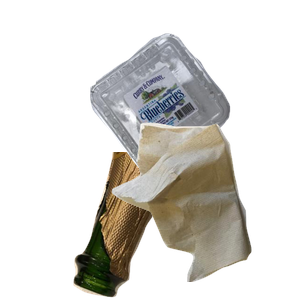glass: (71, 152, 260, 300)
metal: (105, 63, 300, 192)
plastic: (88, 31, 300, 198)
trash: (109, 120, 300, 300)
